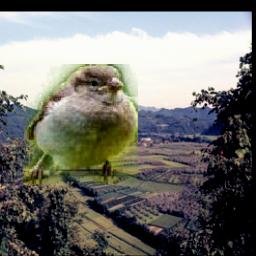Sparrow: (24, 64, 138, 184)
